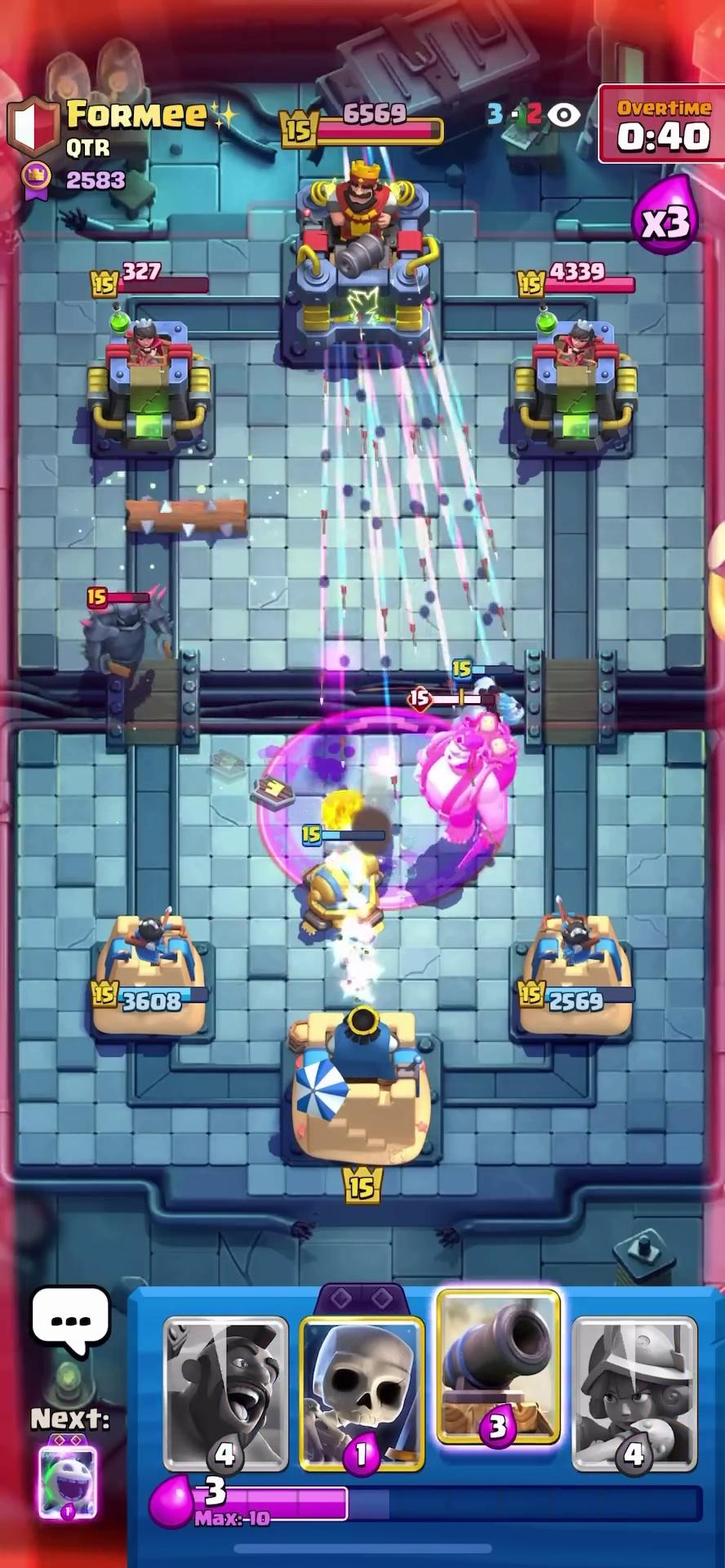cannon: (296, 837, 392, 935)
fireball: (302, 766, 382, 851)
ice_golem: (445, 664, 531, 762)
